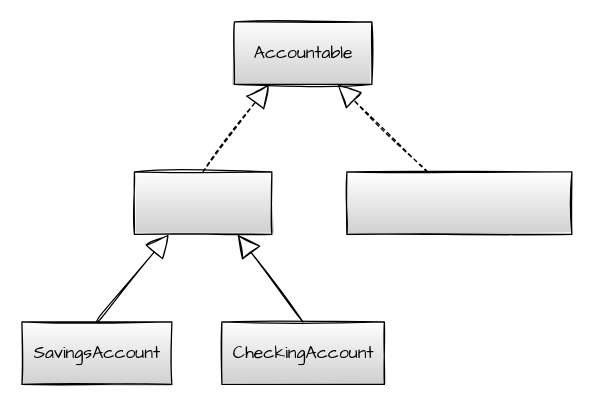
This 594x406 diagram has some shape labels left out. The box of each missing label's shape, as (x1, y1, x2, y2) in pixels:
BankAccount: (133, 171, 272, 234)
CreditCardAccount: (346, 171, 572, 234)
